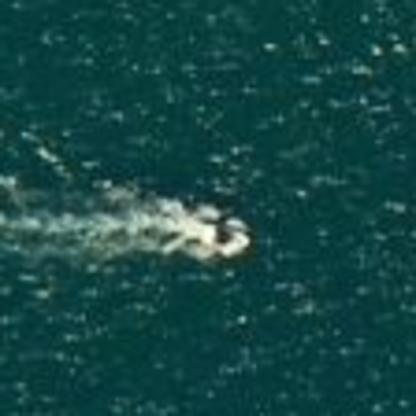ship: (179, 200, 264, 266)
